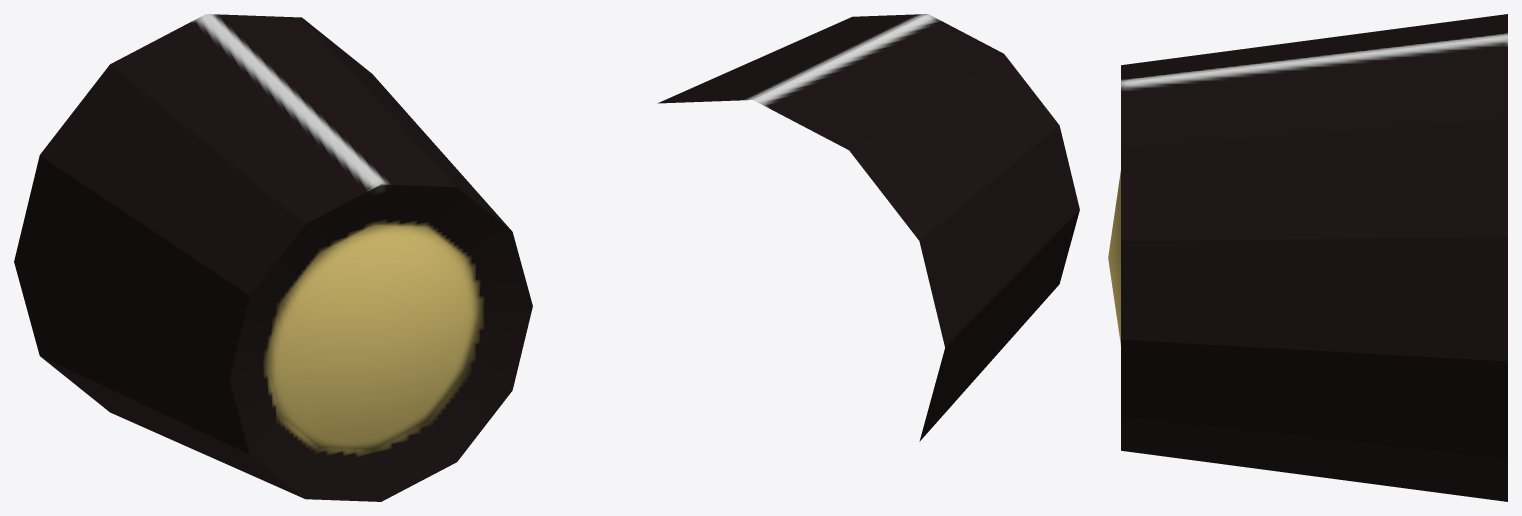
Rendered from aviationSpaceRadioDial.glb.
The picture shows the model from 3 angles, left to right: view 1: azimuth 30°, elevation 25°; view 2: azimuth 150°, elevation 25°; view 3: azimuth 270°, elevation 25°; orthographic projection. The views are drawn at different scales.
Parts seen in each view (by area): view 1: pCylinder15 AandSRadio; view 2: pCylinder15 AandSRadio; view 3: pCylinder15 AandSRadio.
Part boxes in pixels (<box>): pCylinder15 AandSRadio: <box>14,14,532,501</box>; pCylinder15 AandSRadio: <box>657,14,1079,441</box>; pCylinder15 AandSRadio: <box>1108,14,1507,501</box>.
Size of the model in its own units: 0.00231 by 0.00231 by 0.00188.
1 material, 1 textured.
